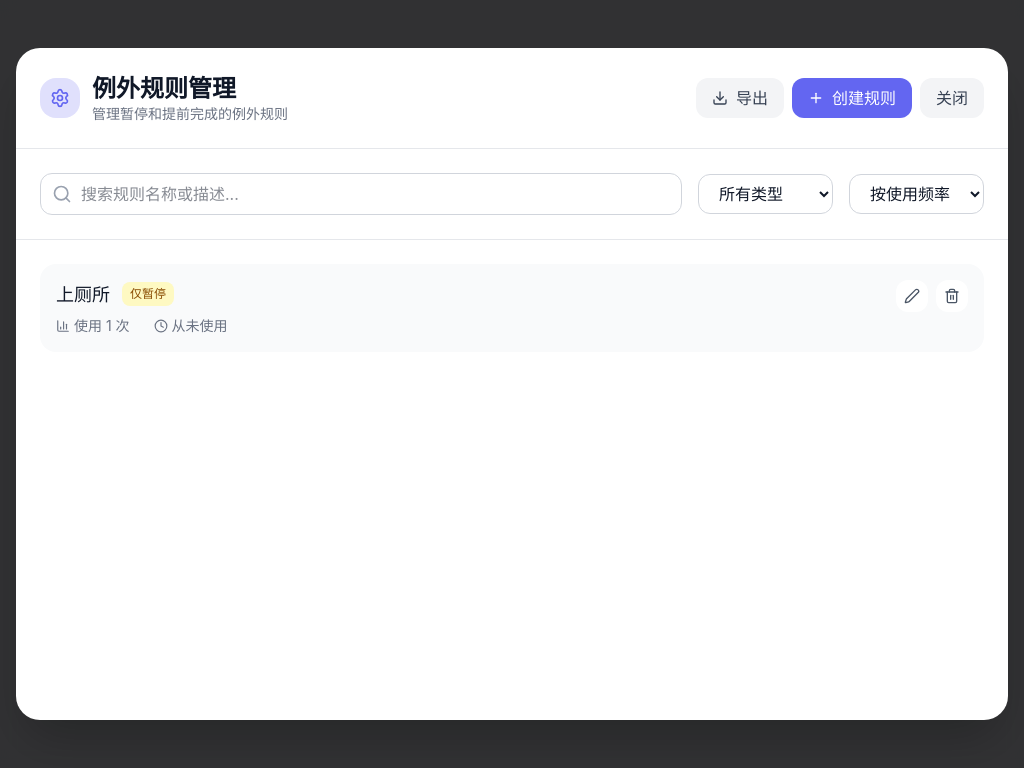
Test: UI Integration Tests › opens the create-rule form while preserving overflow containment
The image size is (1024, 768).
Expected: the heading "例外规则管理" is shown, [92,71,236,104]
Click the button "创建规则": coordinates (852, 98) [792,78,912,118]
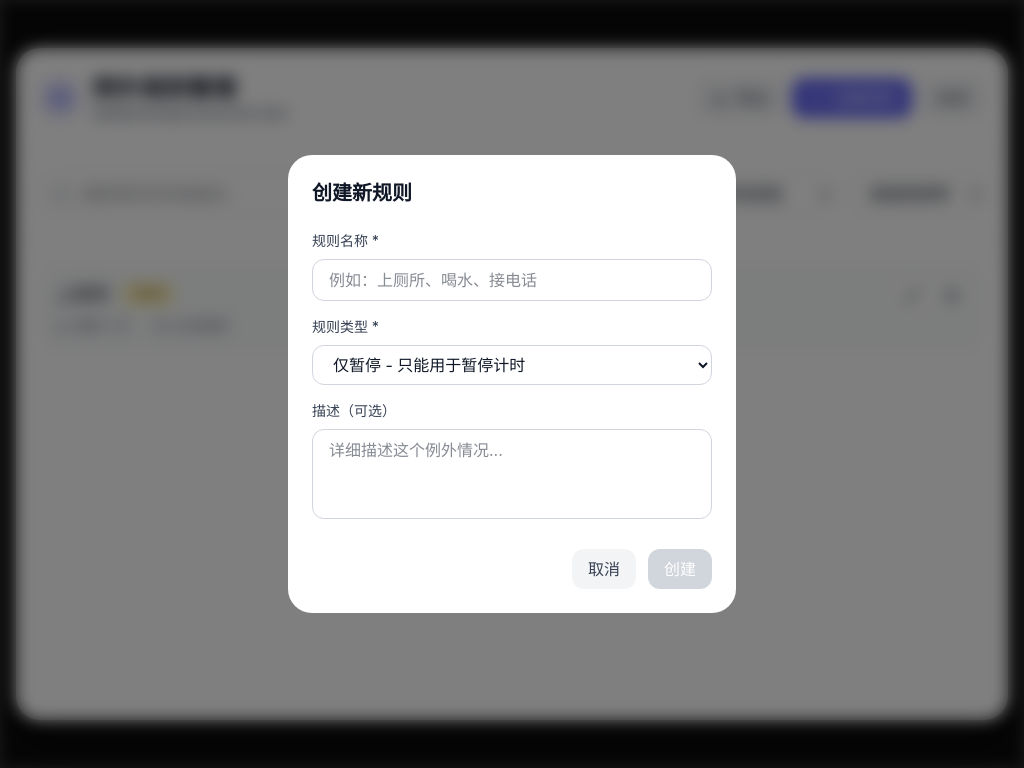
Now the heading "创建新规则" is shown, box [312,179,412,206]
Now the field with placeholder "例如：上厕所、喝水、接电话" is shown, box [312,259,712,301]
